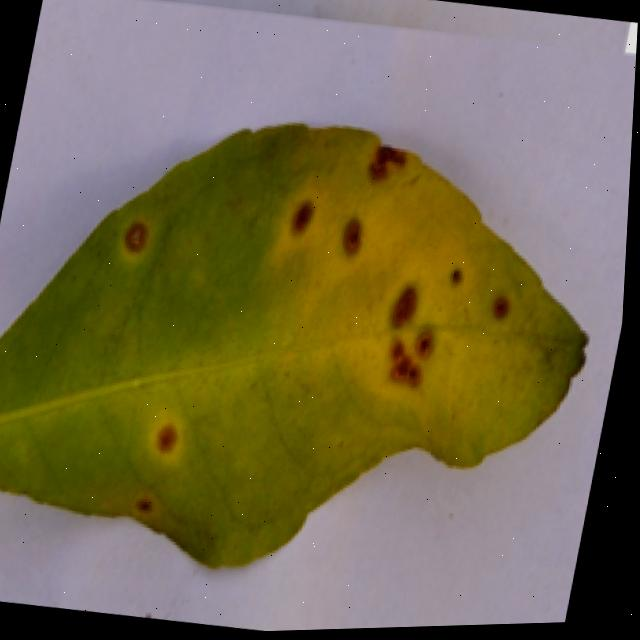canker: (0, 126, 583, 566), (360, 237, 555, 429), (278, 126, 408, 267), (109, 190, 161, 276), (146, 401, 197, 465), (119, 484, 169, 530)
